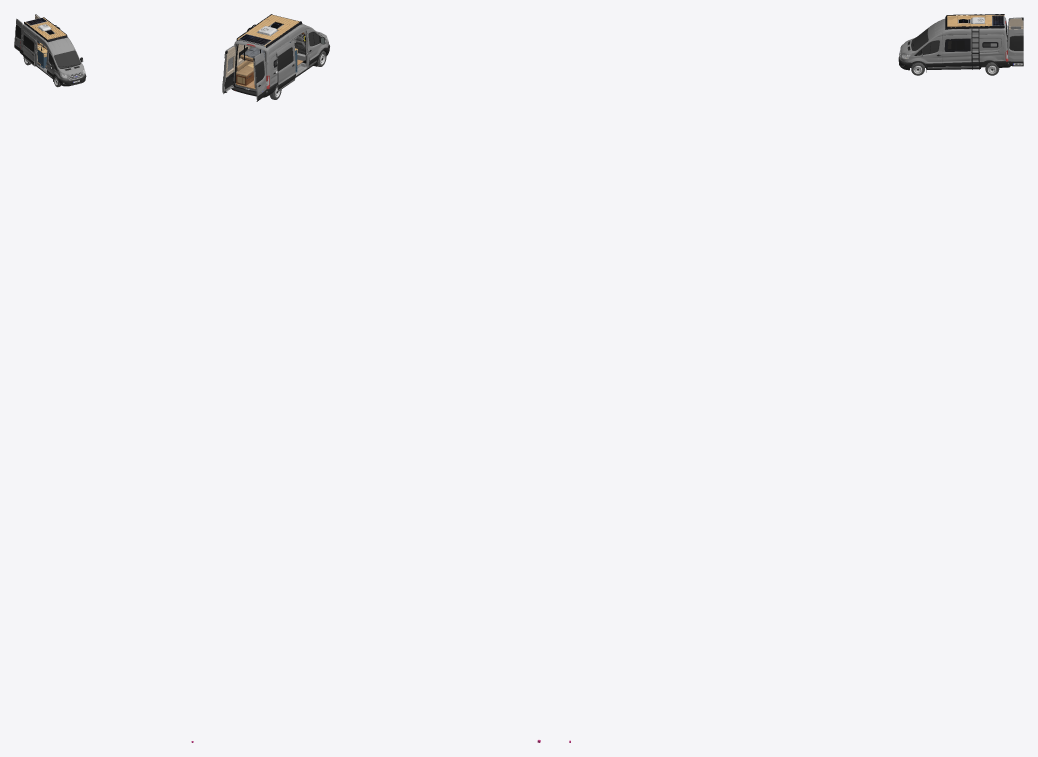
File: GLB-Van-set transforms and midpoint.glb
The picture shows the model from 3 angles, left to right: view 1: azimuth 30°, elevation 25°; view 2: azimuth 150°, elevation 25°; view 3: azimuth 270°, elevation 25°; orthographic projection. The views are drawn at different scales.
Visible parts, largest first — view 1: Body, uper van body, side_door, Front_glass; view 2: Body, uper van body, side_door, Back-door-R; view 3: Body, uper van body.
Boxes of the visible parts, box(x1,y1,x2,y2) form: Body: box(19, 24, 86, 86); uper van body: box(24, 17, 67, 42); side_door: box(22, 31, 36, 66); Front_glass: box(54, 50, 80, 68); Body: box(231, 22, 329, 97); uper van body: box(236, 14, 302, 47); side_door: box(276, 41, 295, 91); Back-door-R: box(253, 52, 266, 101); Body: box(898, 17, 1010, 72); uper van body: box(945, 14, 1004, 69).
Bounding box in the file's own units: 154 × 2611 × 1465.
140 materials, 19 textured.
